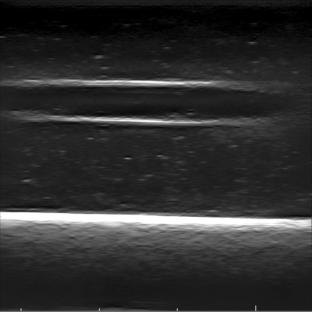vessel: (4, 78, 285, 128)
